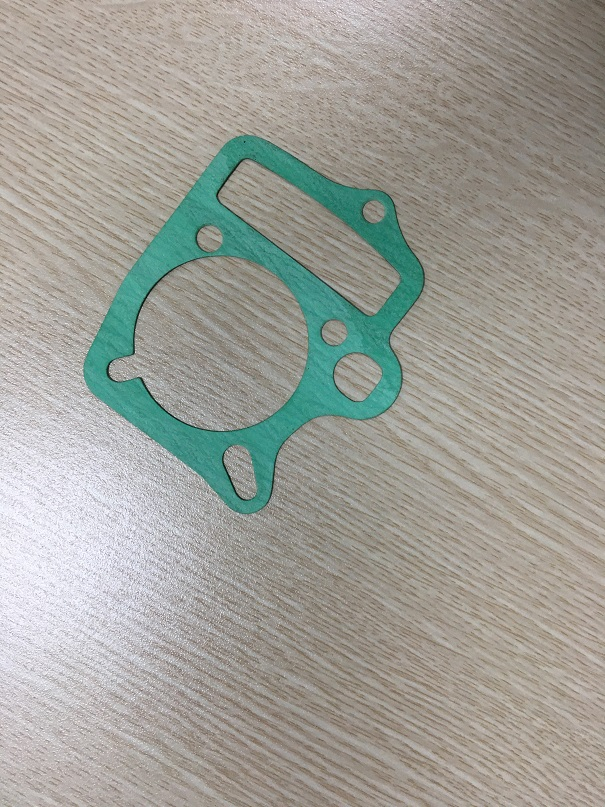type4: (78, 123, 432, 521)
